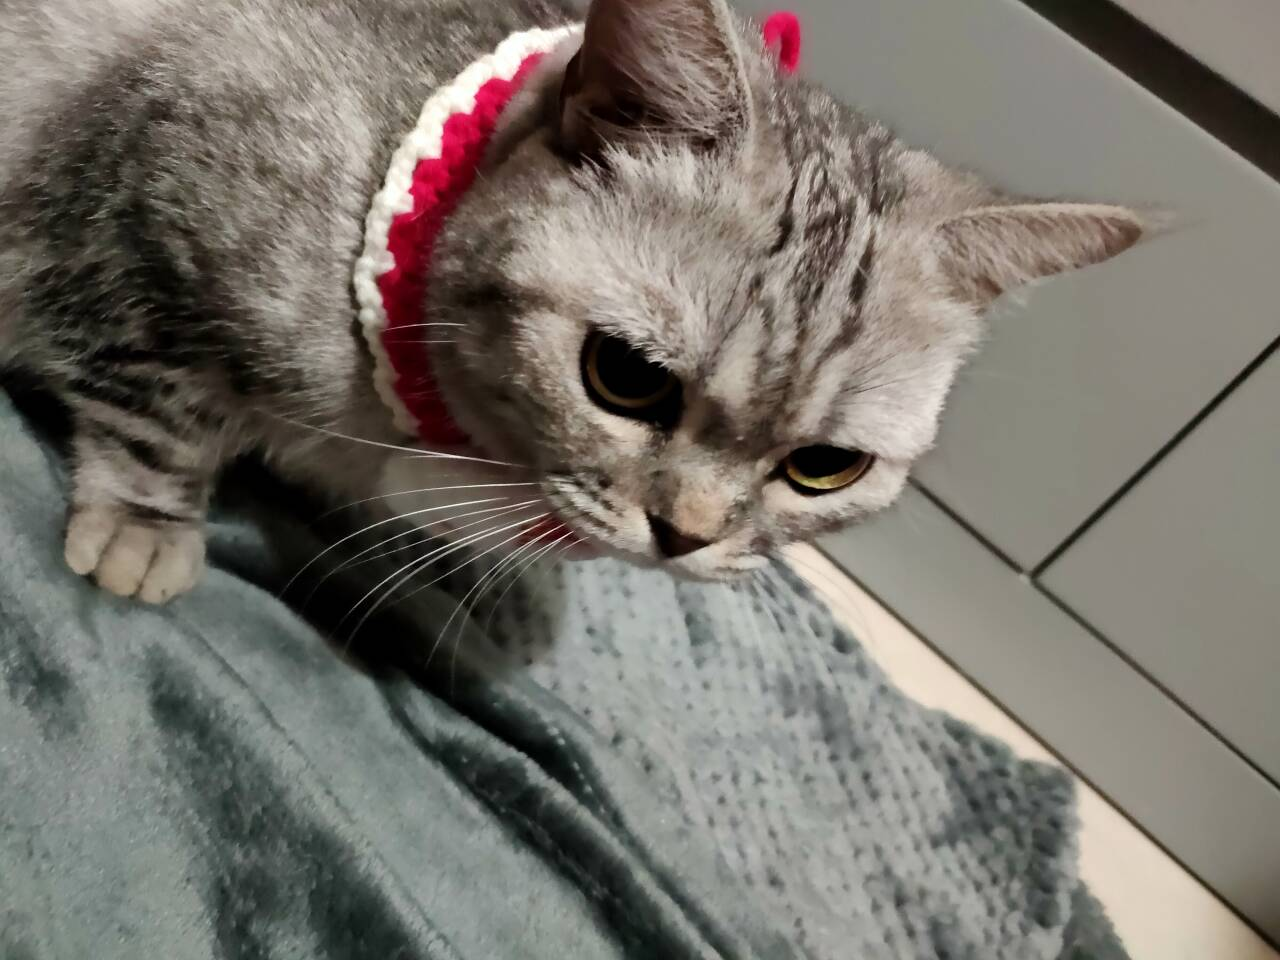white: (1, 1, 983, 597)
